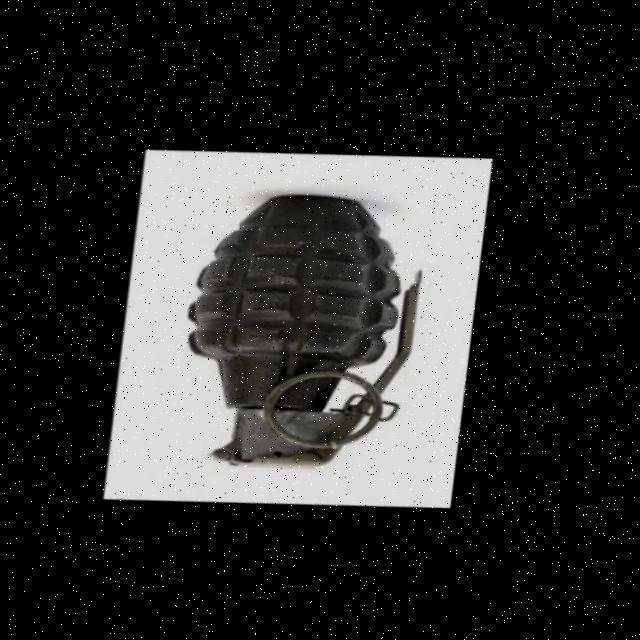grenade: (102, 127, 503, 534)
